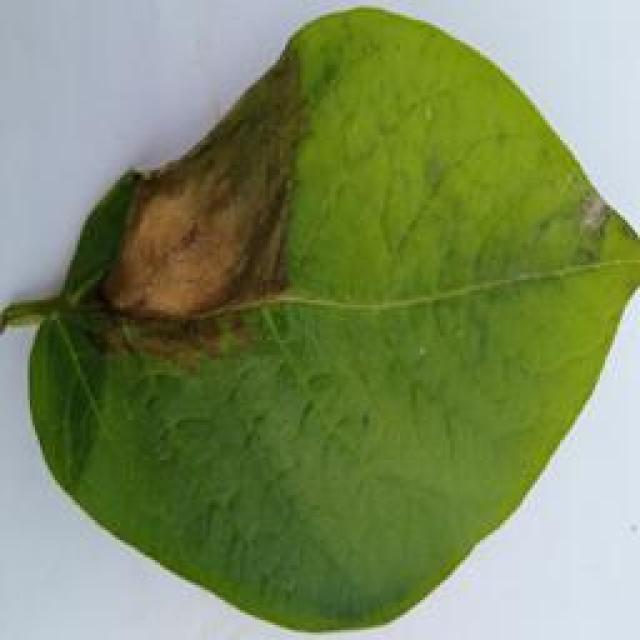Potato_Late_Blight: (9, 8, 628, 634)
